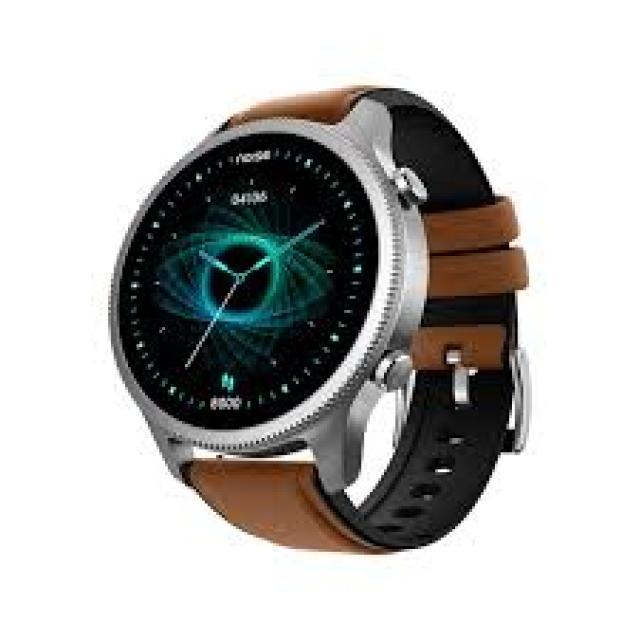objects: (109, 85, 529, 557)
